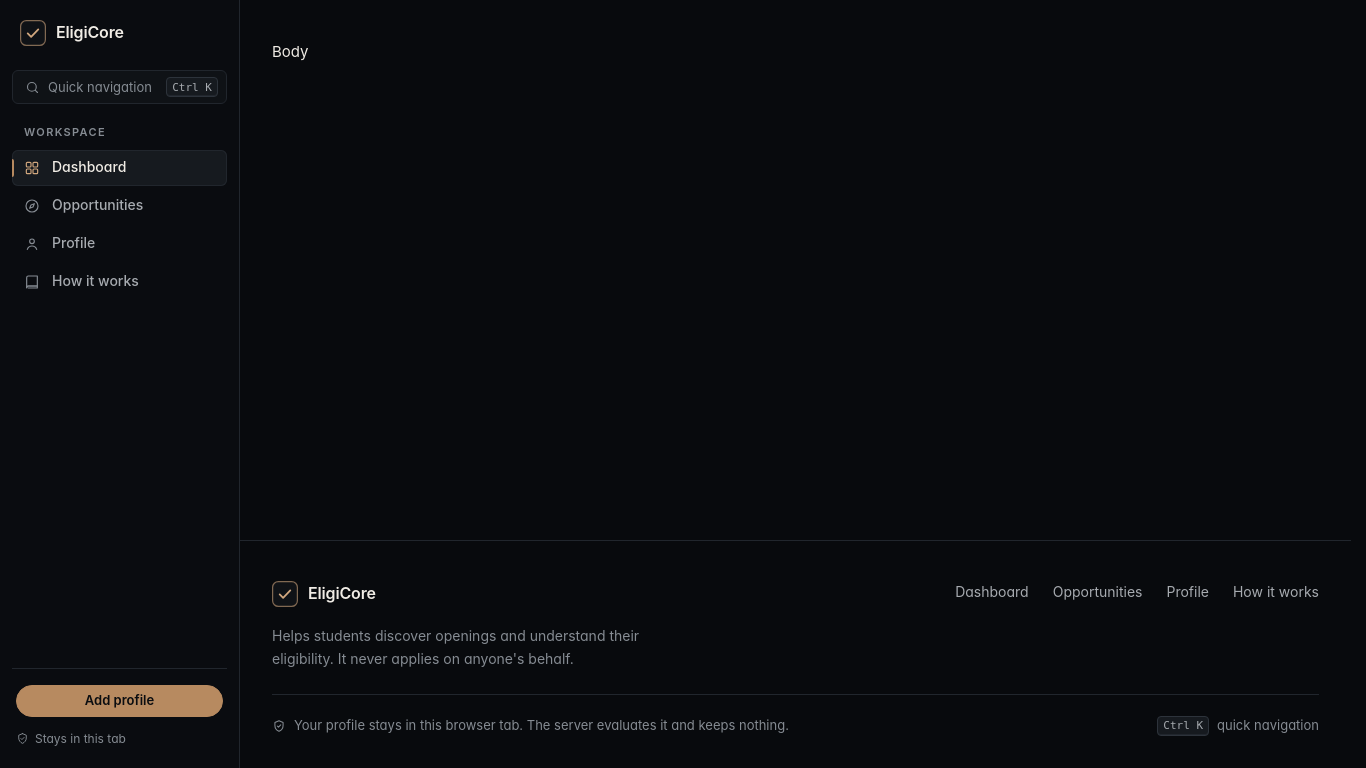
Test: quick navigation › opens with Ctrl+K, filters pages, and navigates with Enter
Press k
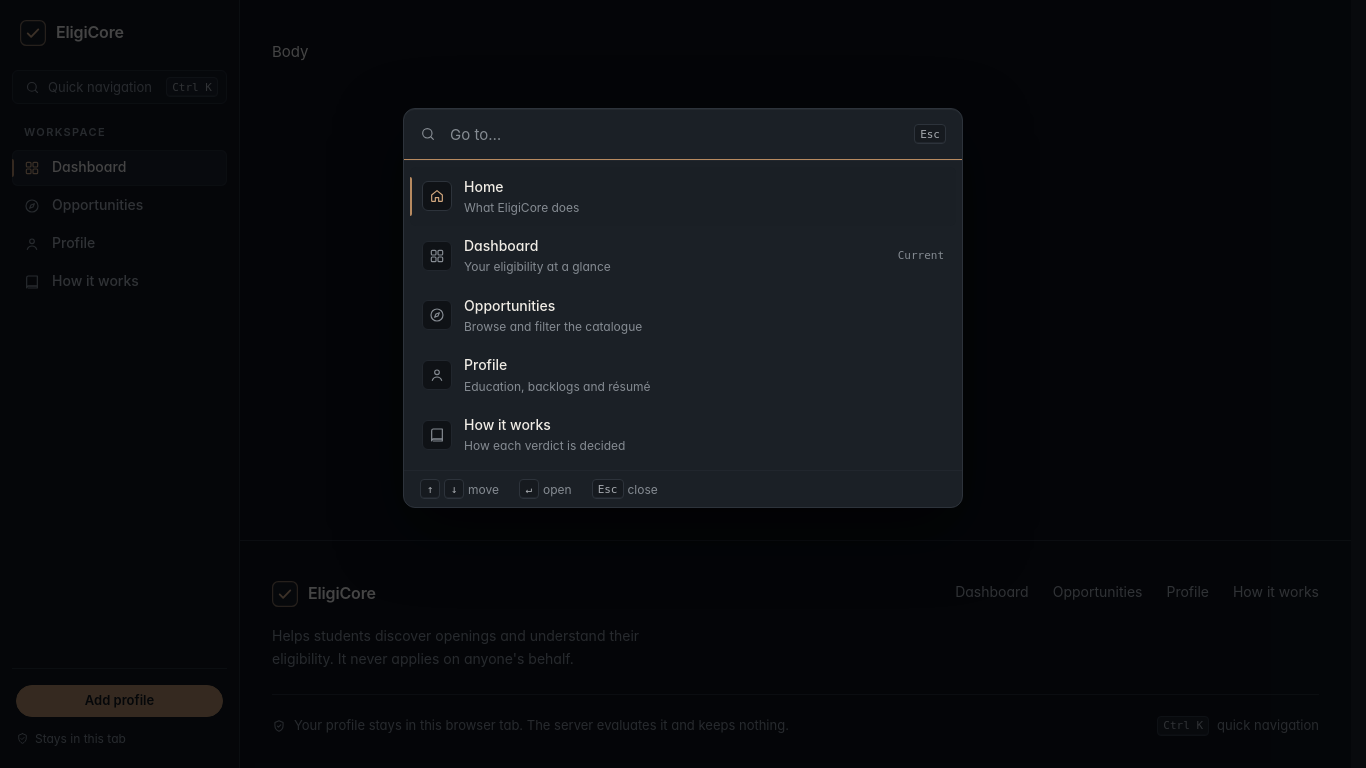
Check: the number of options is 5, box [410,166,956,226]; [410,226,956,286]; [422,297,642,334]; [422,356,650,394]; [422,416,625,453]
In the dropdown named "Go to page": (675, 134) [448,108,902,160], type "resume"
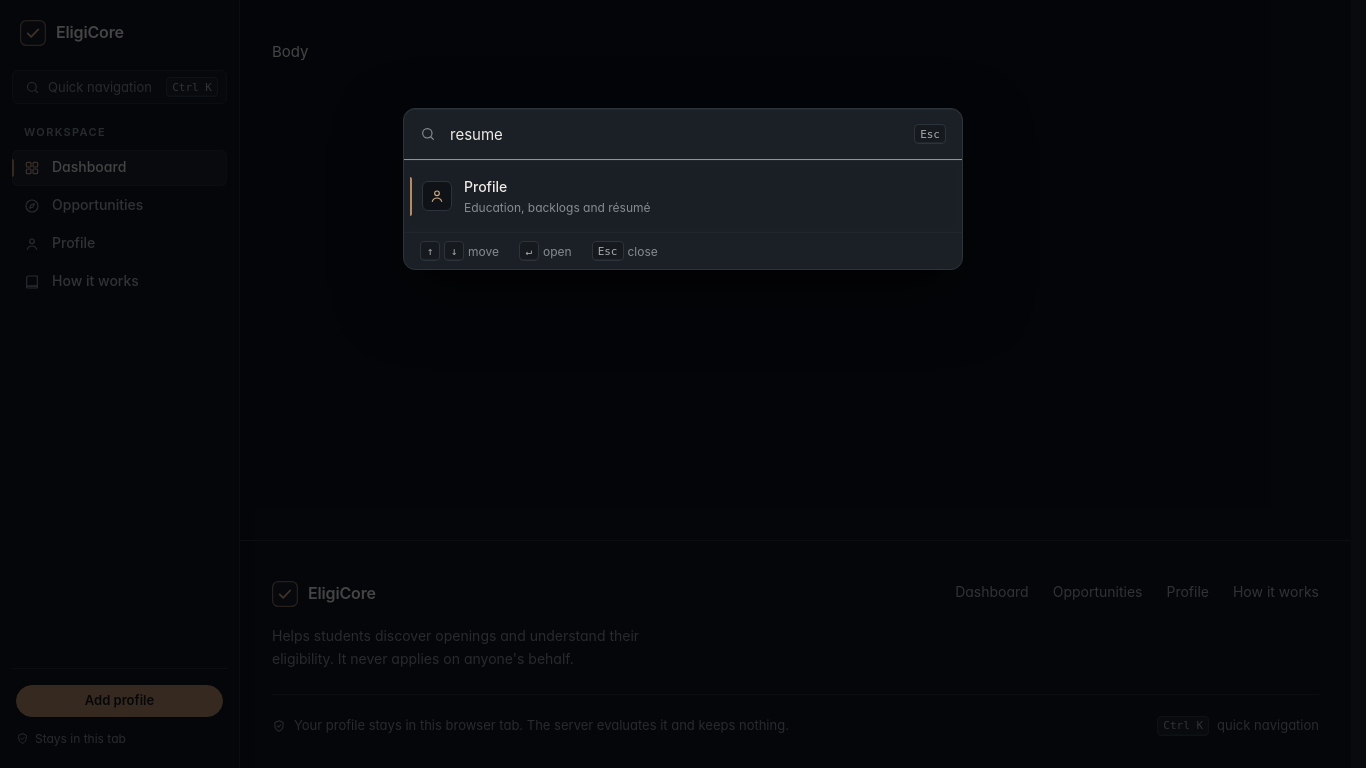
Press Enter in the dropdown named "Go to page", box [448,108,902,160]
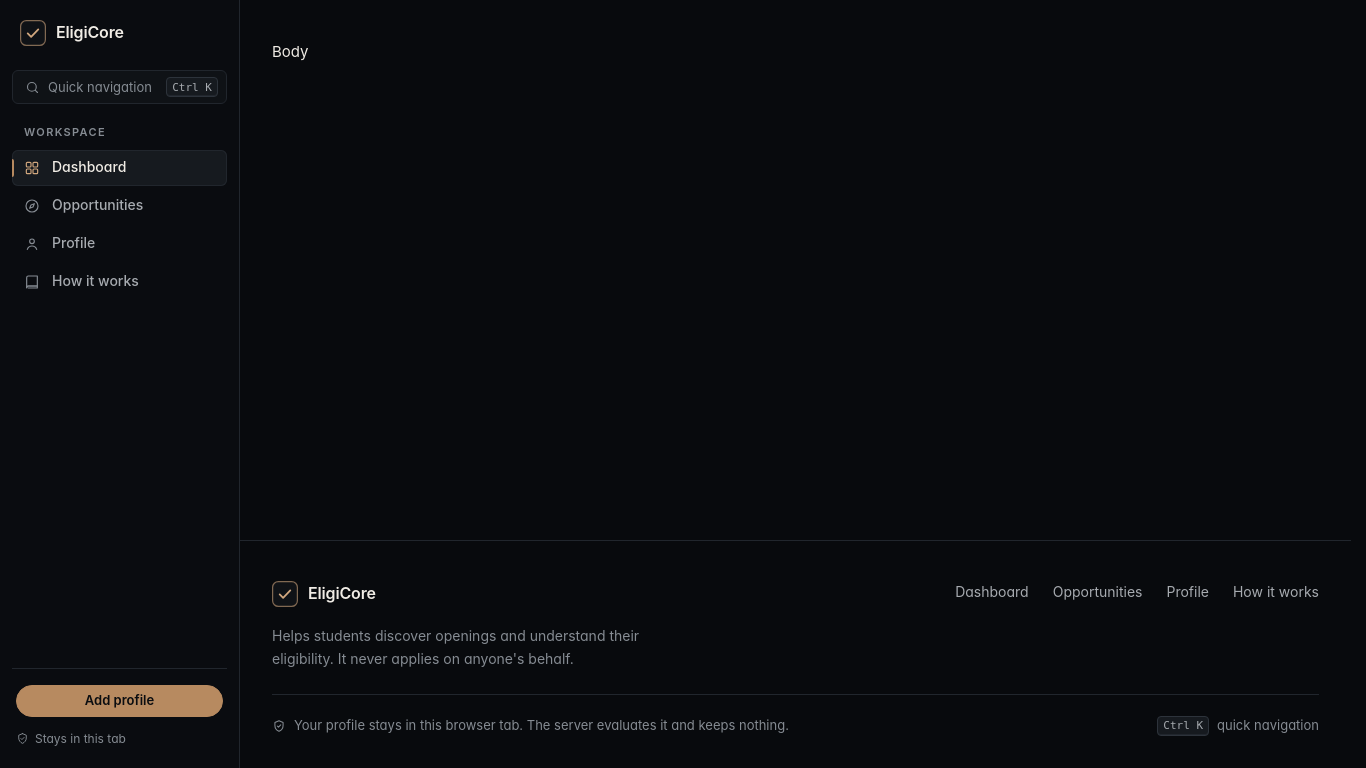
Check: the dialog is gone
